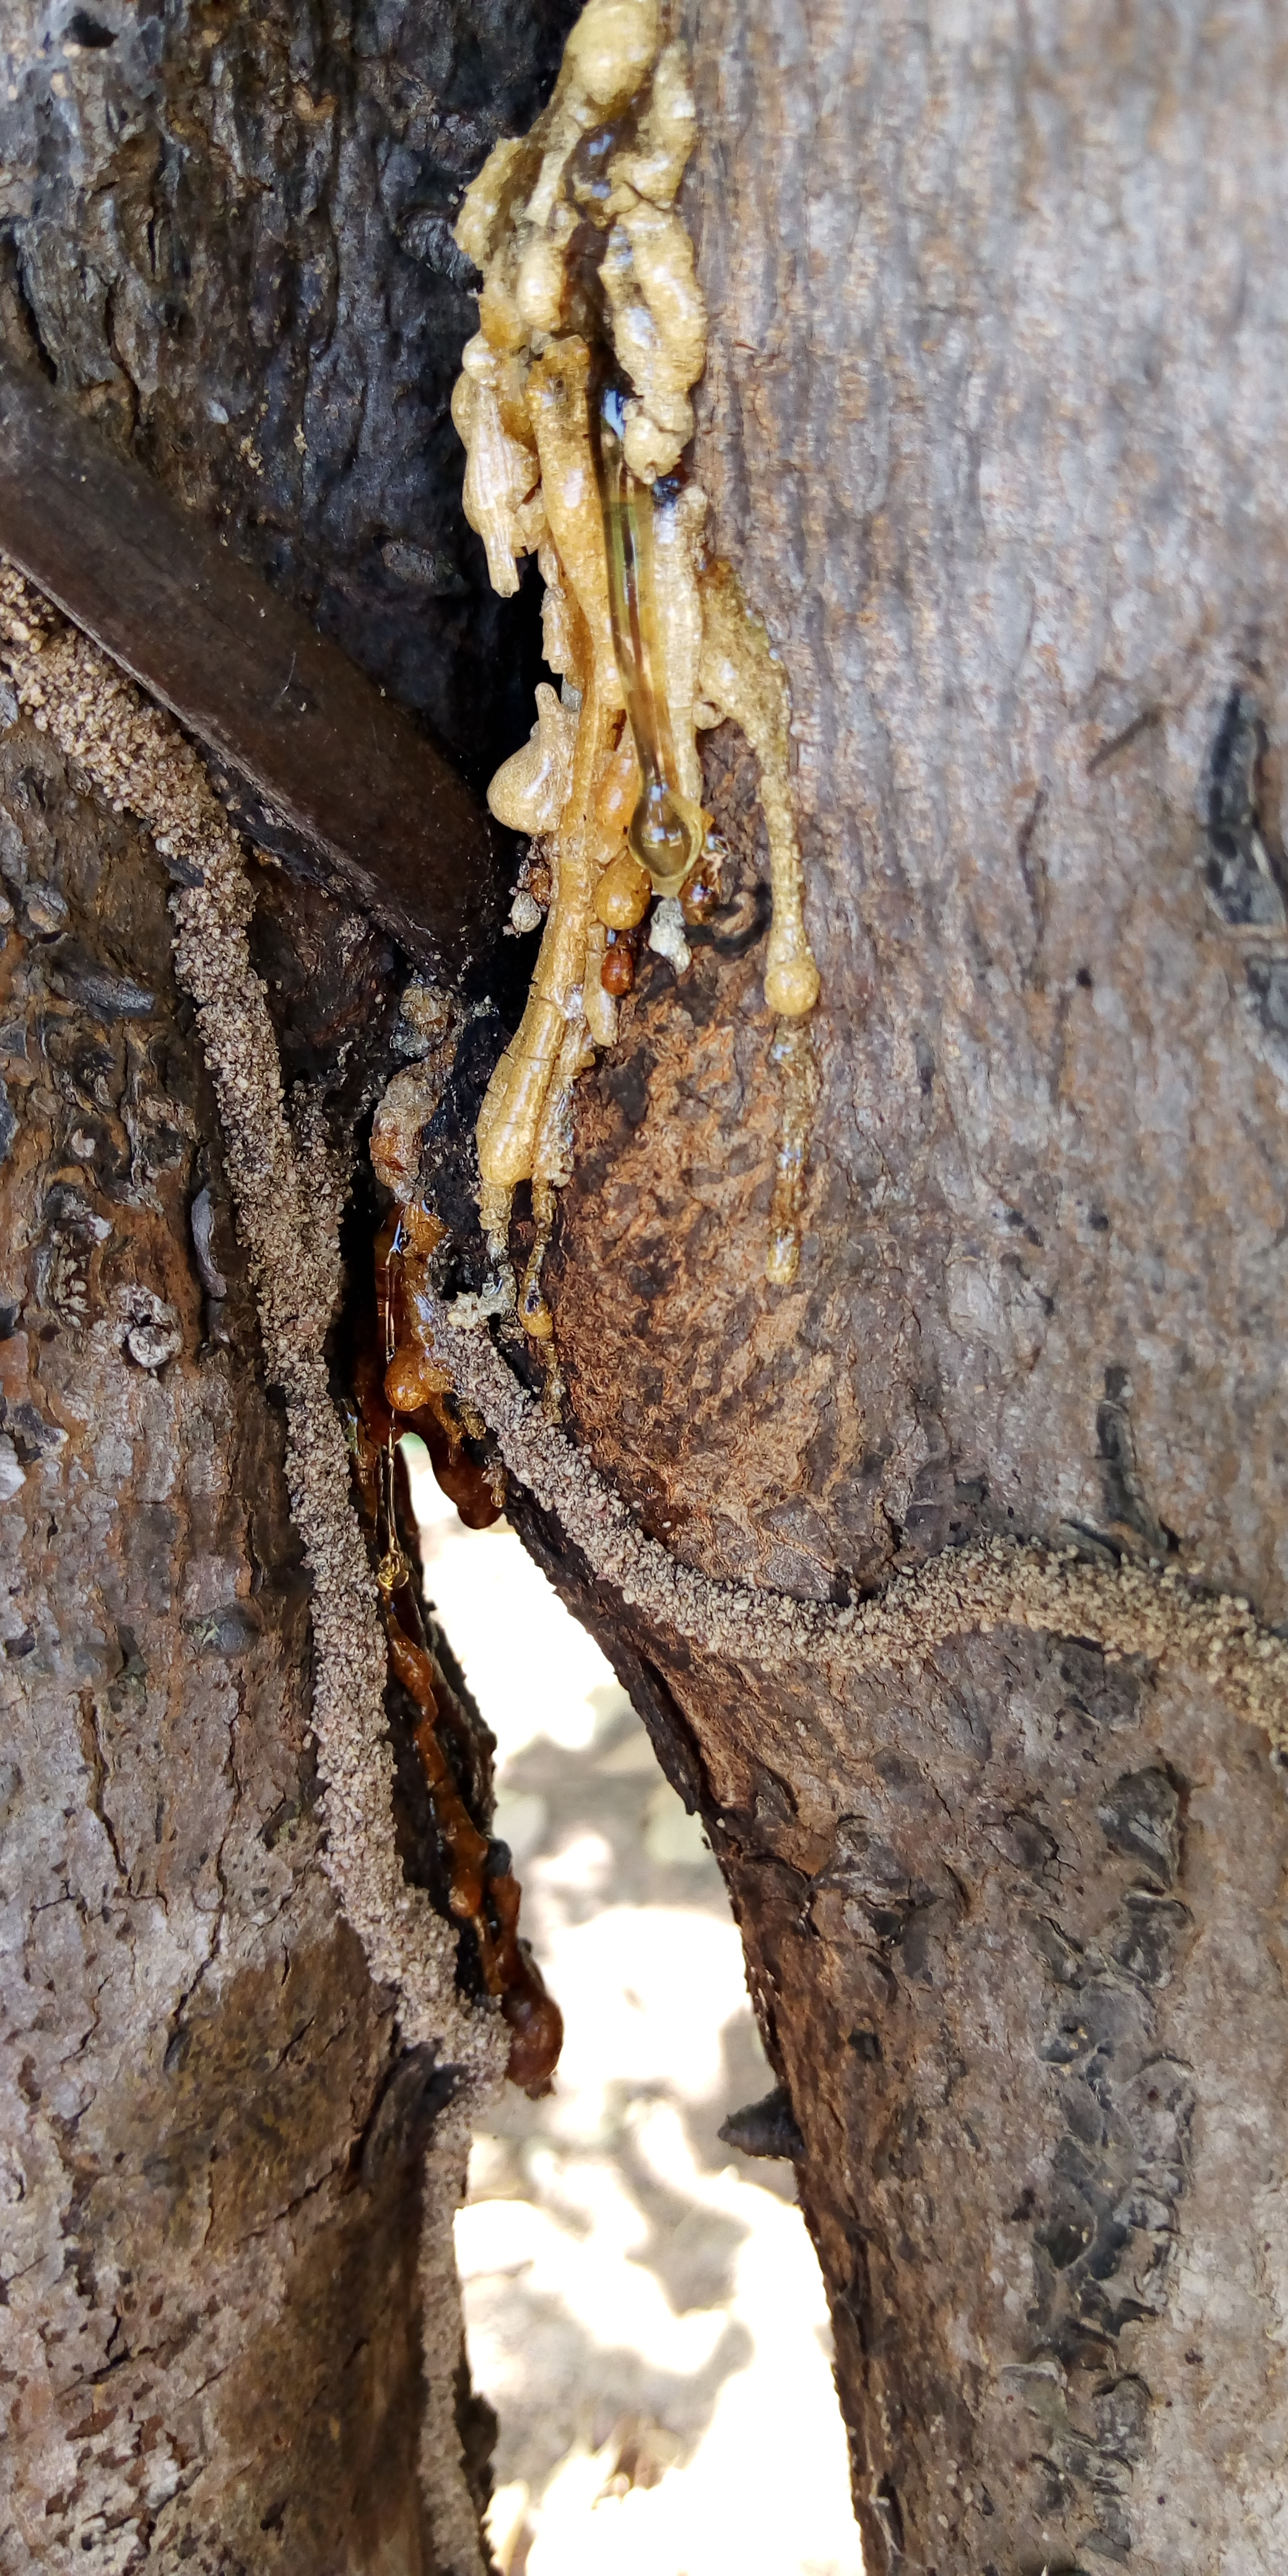Gommose: (0, 3, 830, 2060)
